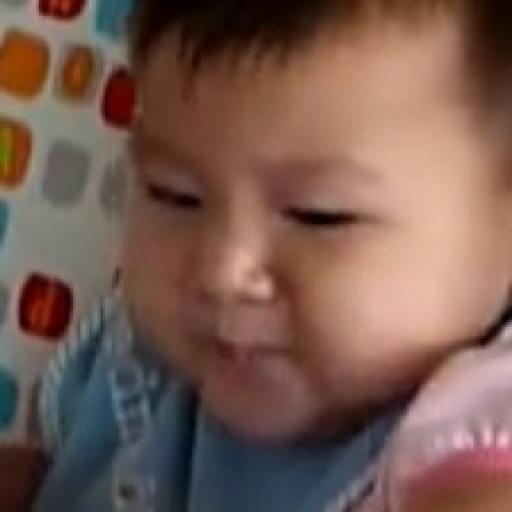Autism: (130, 0, 512, 432)
